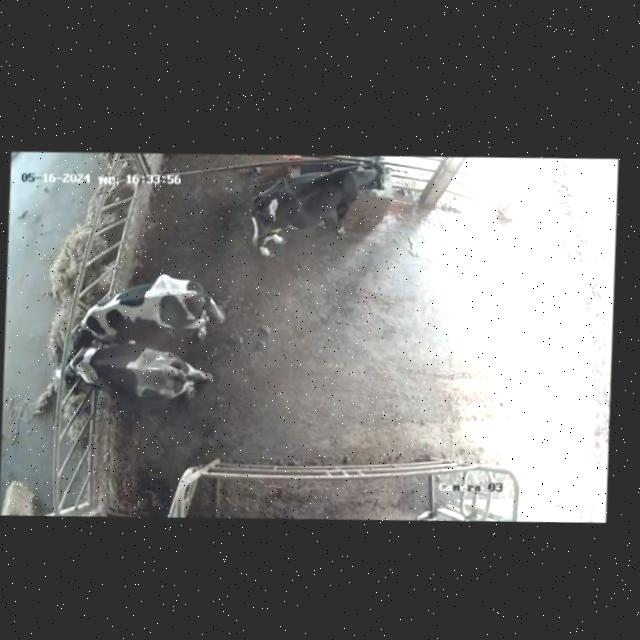drink: (334, 158, 398, 225)
eat: (46, 289, 135, 354), (44, 347, 132, 396)
